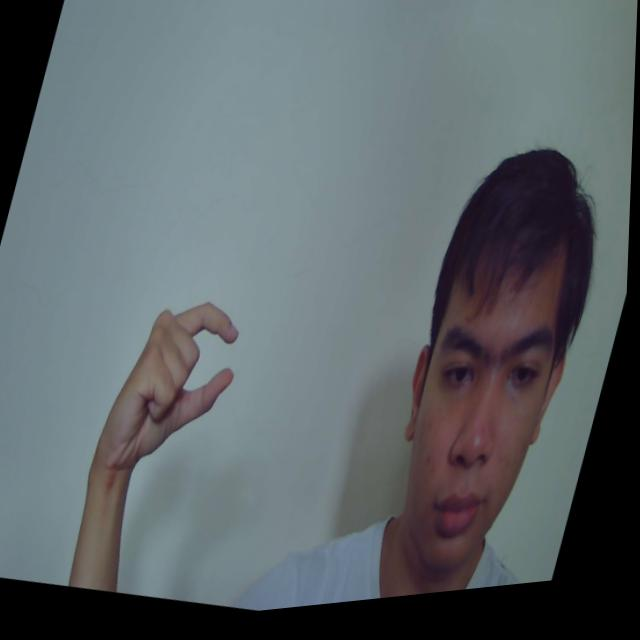G: (94, 283, 258, 496)
